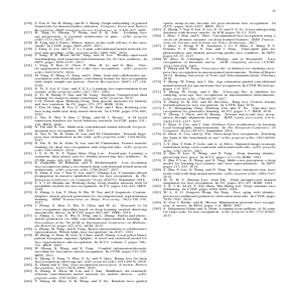text: (19, 19, 149, 288), (151, 20, 279, 220)
